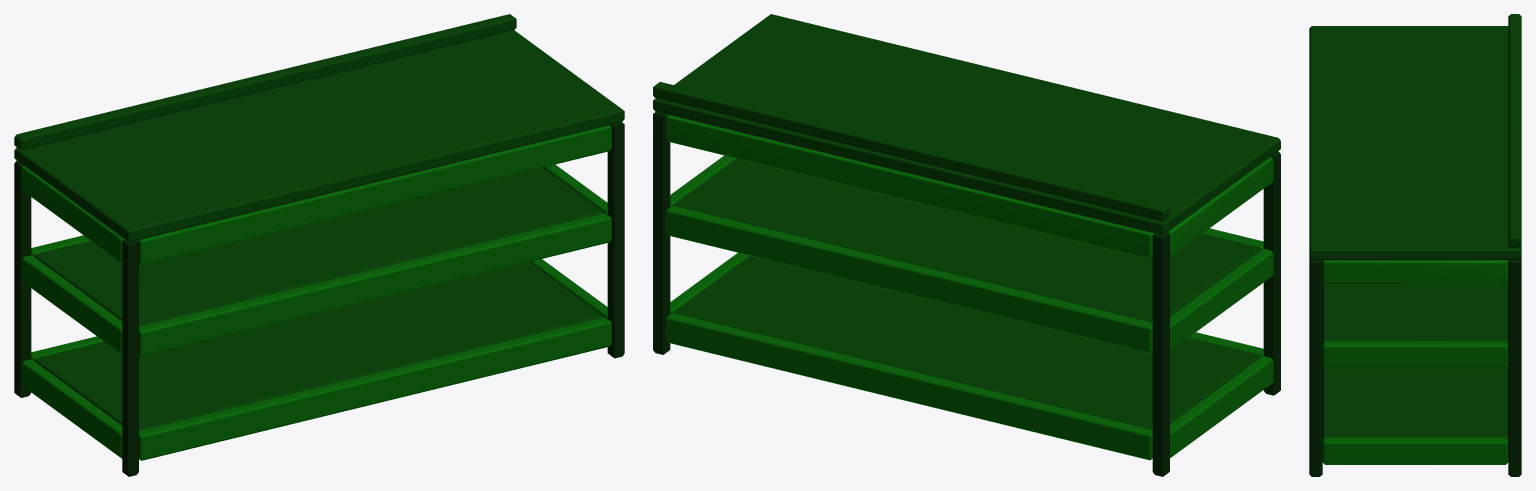
The picture shows the model from 3 angles, left to right: view 1: azimuth 30°, elevation 25°; view 2: azimuth 150°, elevation 25°; view 3: azimuth 270°, elevation 25°; orthographic projection. The views are drawn at different scales.
Visible parts, largest first — view 1: Plane.455; view 2: Plane.455; view 3: Plane.455.
Part boxes in pixels (box(x1,y1,x2,y2)): Plane.455: box(14, 14, 624, 476); Plane.455: box(653, 14, 1280, 476); Plane.455: box(1309, 14, 1521, 476).
Size of the model in its own units: 2 by 1 by 0.8.
